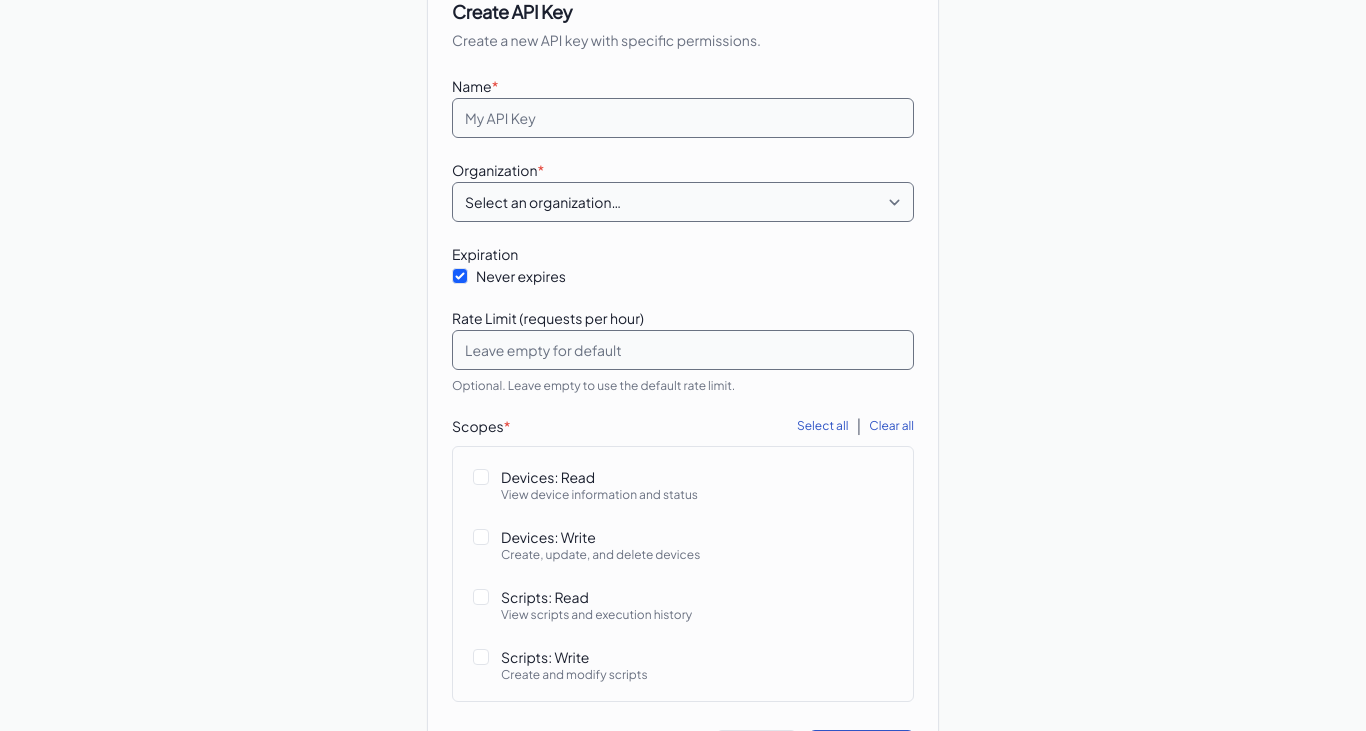
Test: ApiKeyForm — fleet-view org picker › blocks submit with an error when no org is picked, instead of posting an org-less key
The image size is (1366, 731).
Type "CI key" into the field with placeholder "My API Key" at (683, 118), box left=452, top=98, right=914, bottom=138
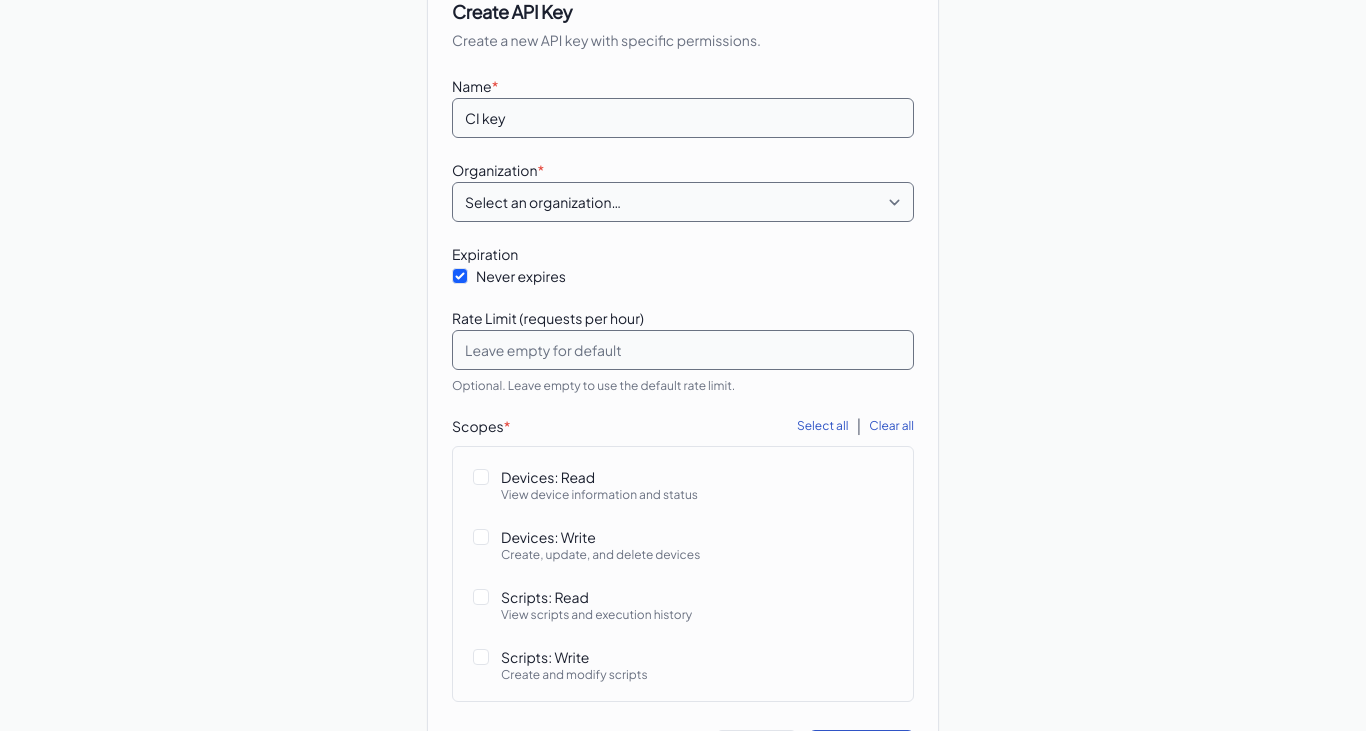
Click the button "Select all" at (823, 426), box left=797, top=414, right=848, bottom=438
(page scrolled)
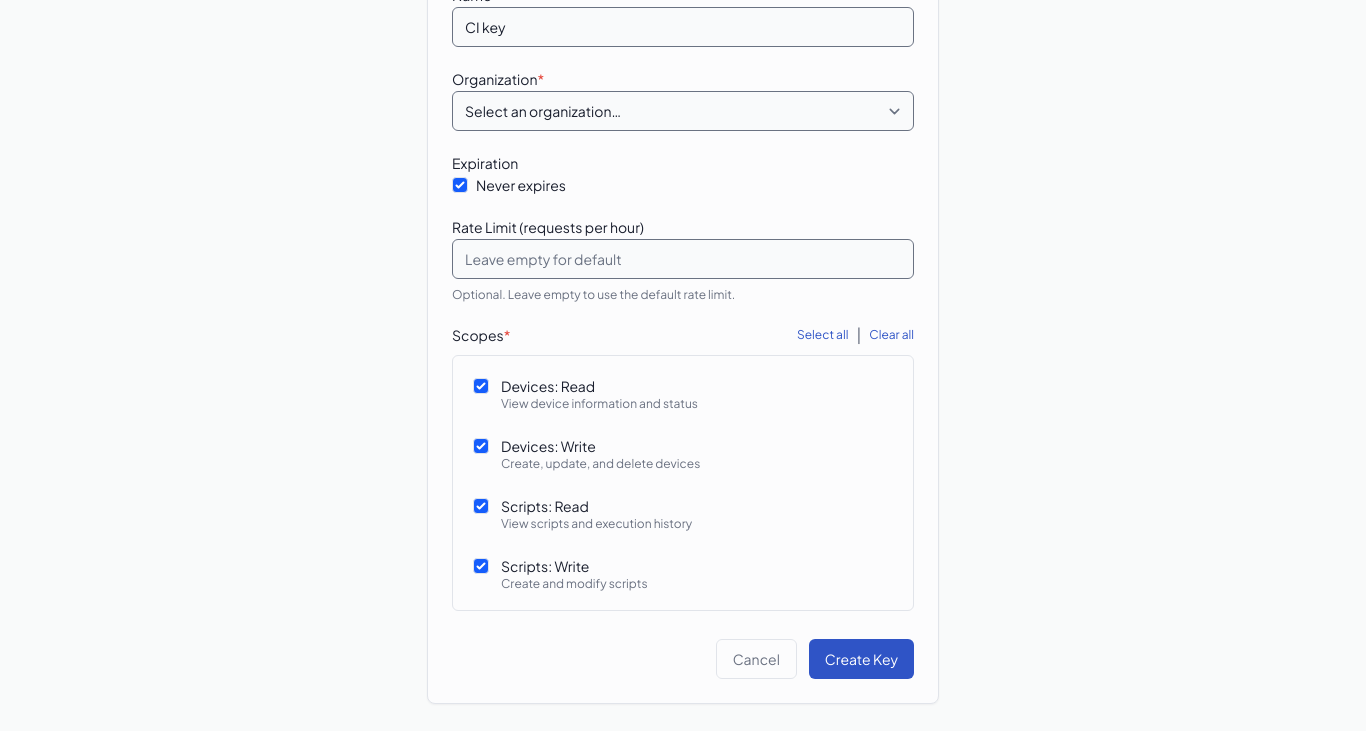
Click the button "Create Key" at (861, 659), box left=809, top=639, right=914, bottom=679
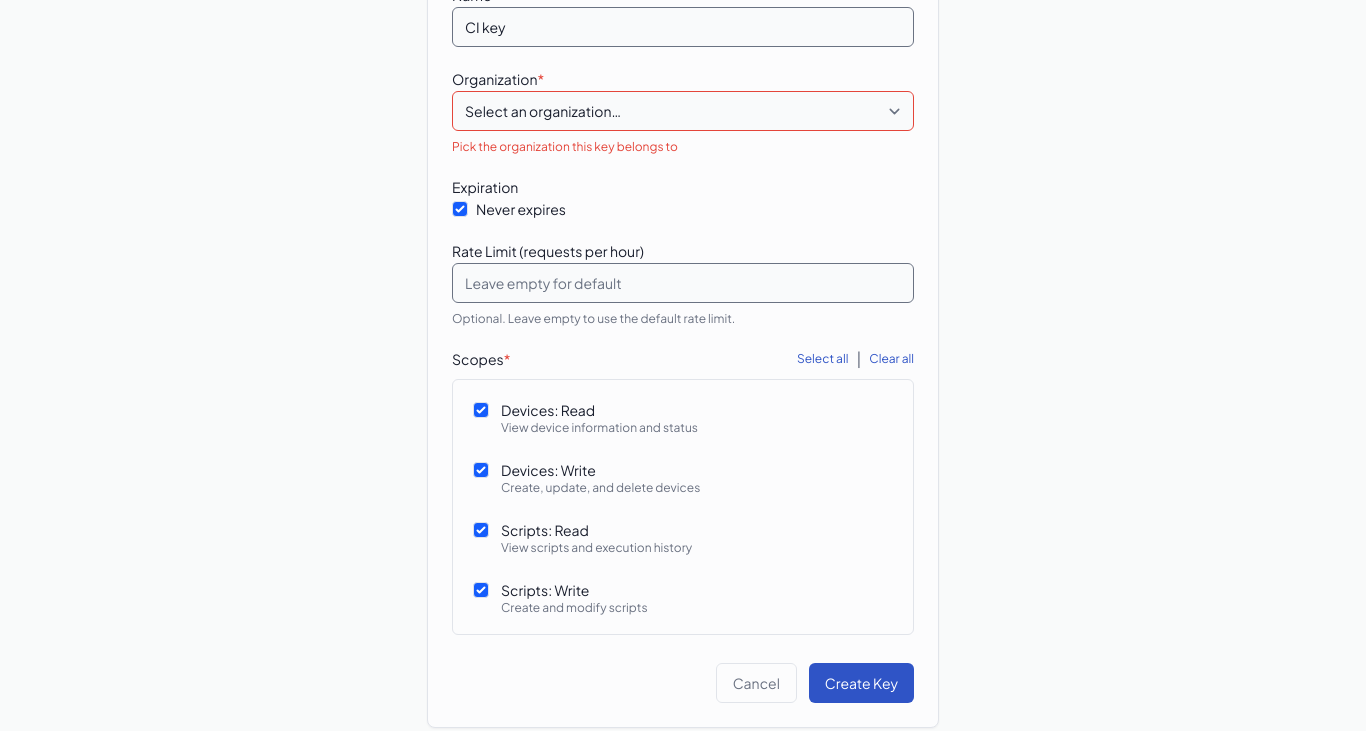
Expected: the text "Pick the organization this key belongs to" is shown, left=452, top=139, right=678, bottom=154
